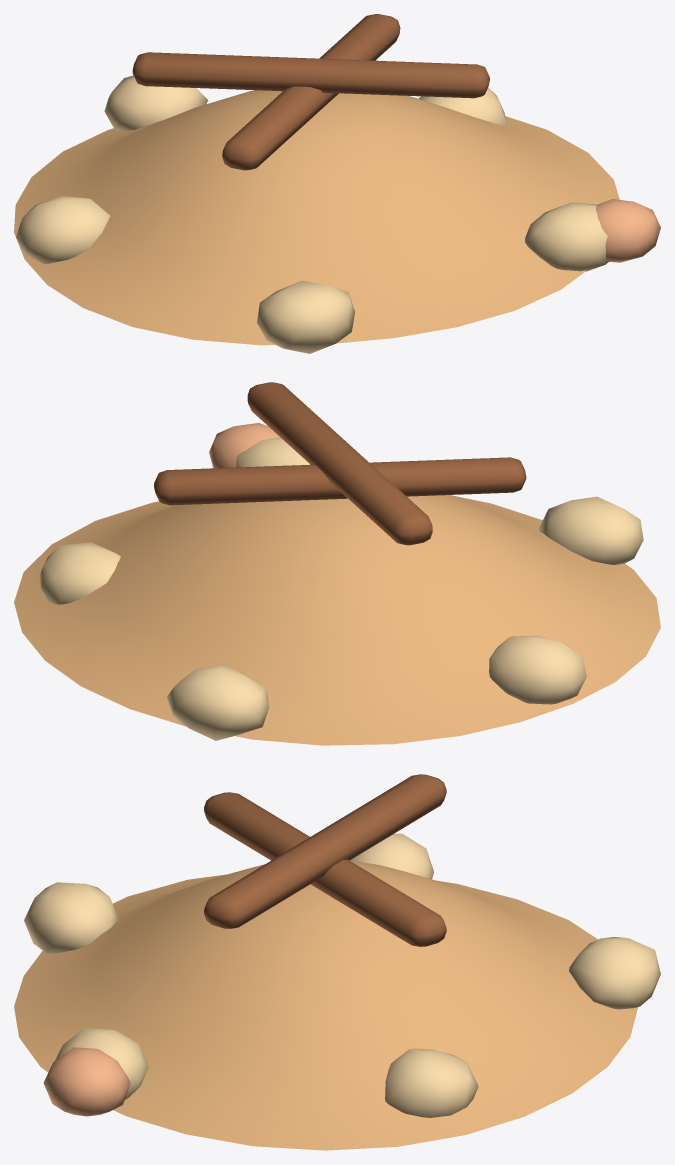
Rendered from prop_dig_spot.glb.
3 renders of one model, top to bottom at view 1: azimuth 30°, elevation 25°; view 2: azimuth 150°, elevation 25°; view 3: azimuth 270°, elevation 25°, orthographic. The views are drawn at different scales.
Visible parts, largest first — view 1: prop_dig_spot; view 2: prop_dig_spot; view 3: prop_dig_spot.
Boxes of the visible parts, <box> form: prop_dig_spot: <box>14,14,660,353</box>; prop_dig_spot: <box>14,382,660,745</box>; prop_dig_spot: <box>14,774,660,1150</box>.
Bounding box in the file's own units: 0.8391 × 0.254 × 0.8144.
